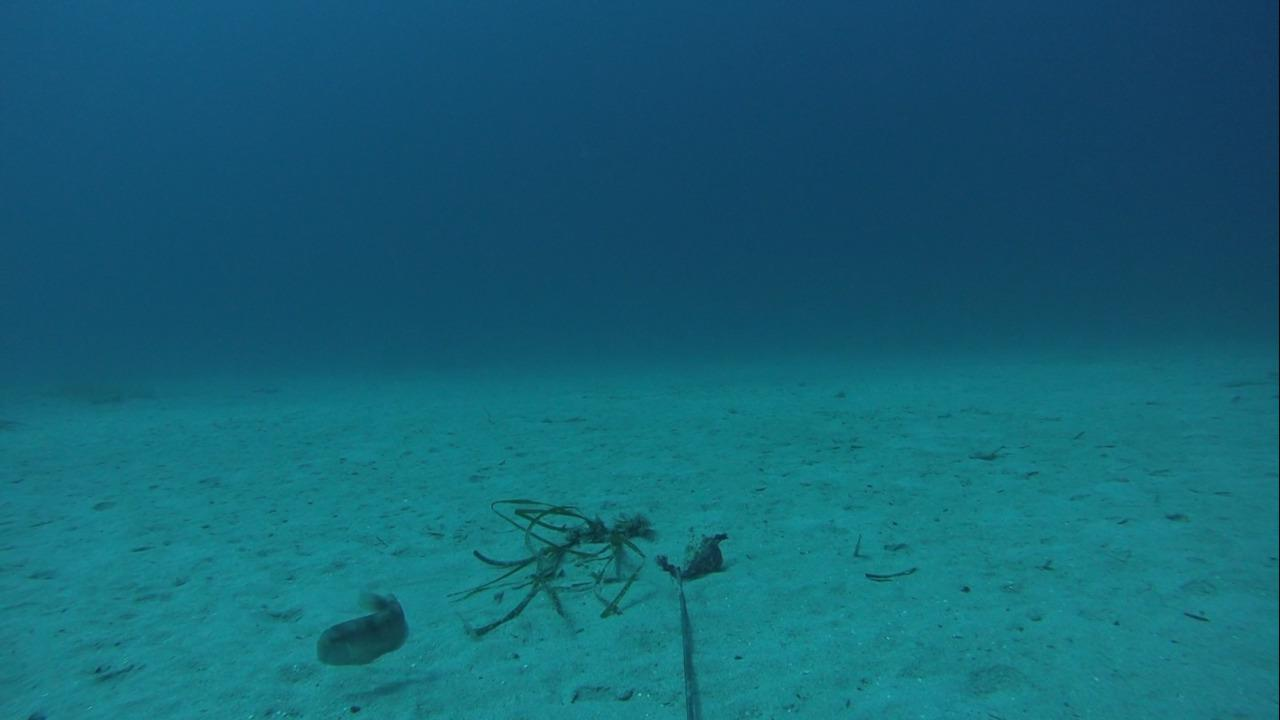raor: (311, 585, 408, 669)
